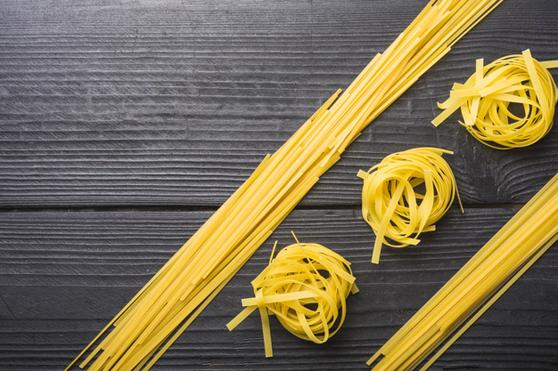spaghetti: (239, 139, 336, 215)
